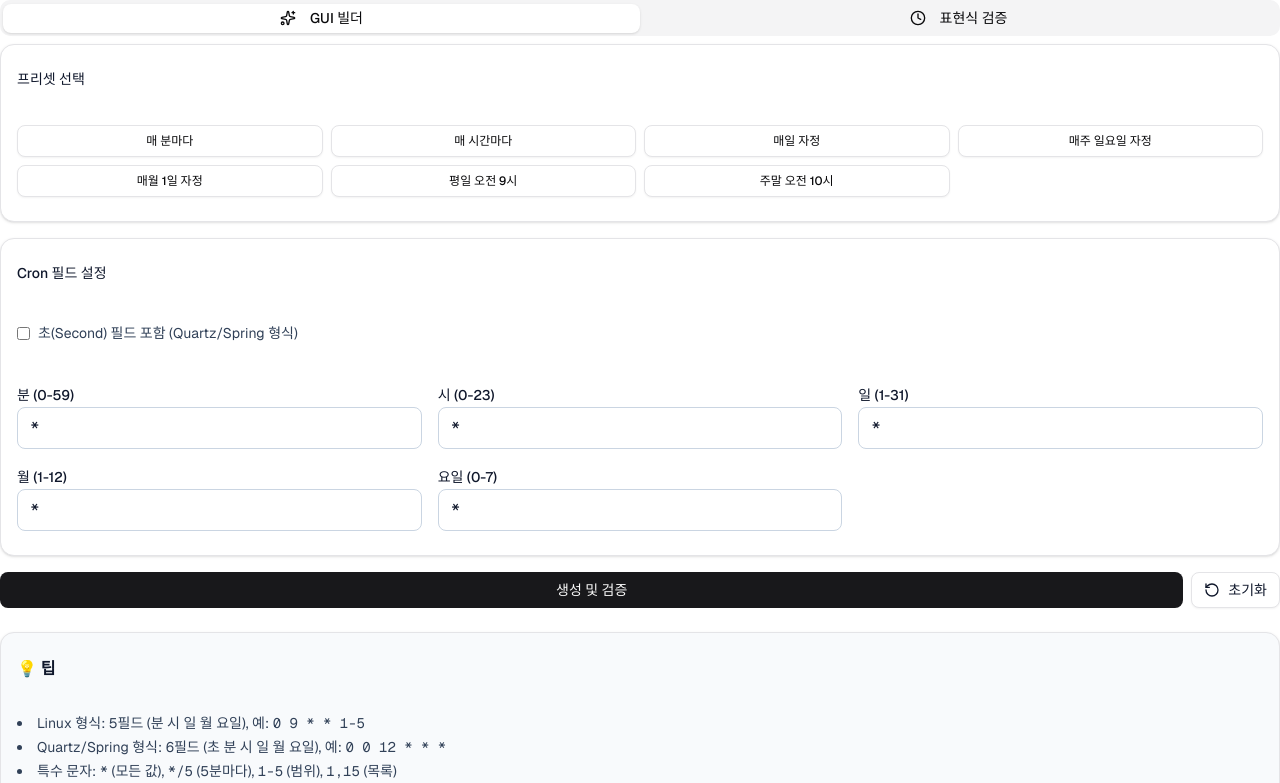
Test: CronExpressionGenerator Component › GUI 빌더 모드 테스트 › Cron 생성 성공 시 결과 표시
Step 1. Click the button "생성 및 검증" → (592, 590), box [0, 572, 1183, 608]
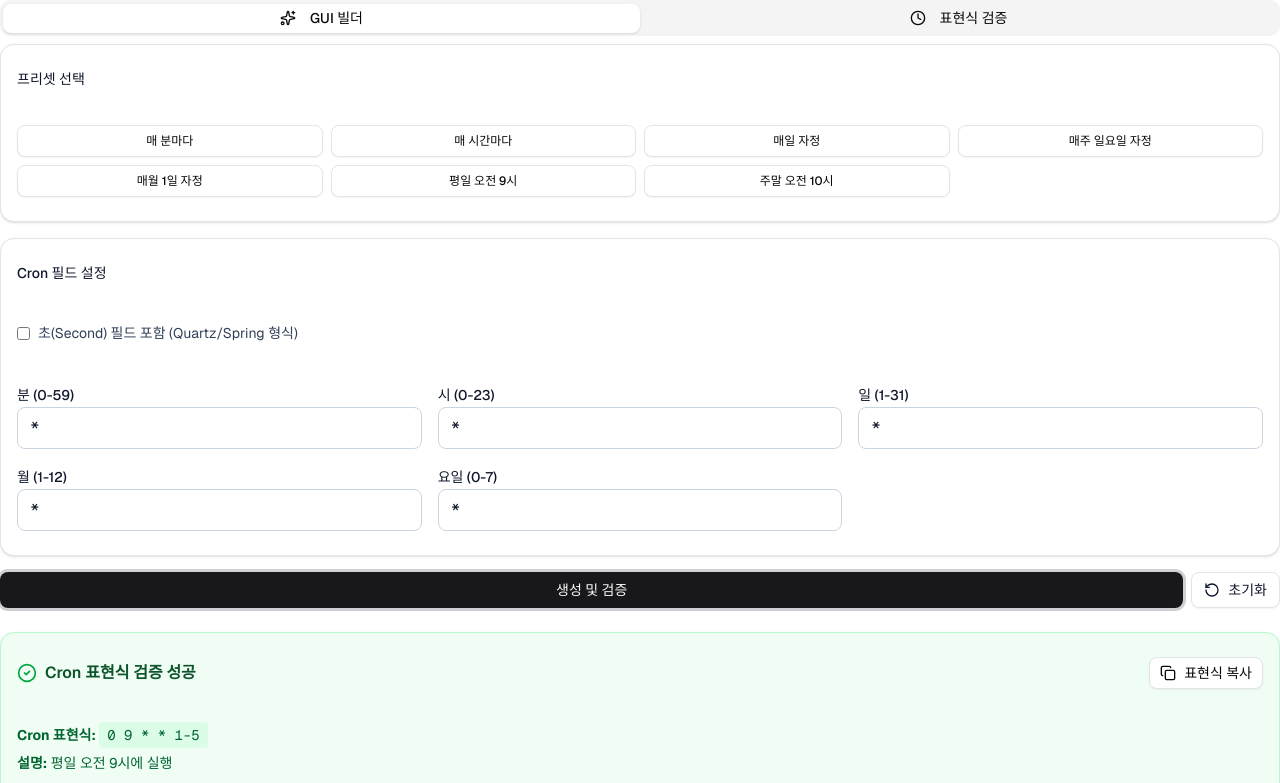
Expected: the heading "Cron 표현식 검증 성공" is shown, [45, 661, 196, 685]
Expected: the text "0 9 * * 1-5" is shown, [99, 722, 208, 748]
Expected: the text "설명: 평일 오전 9시에 실행" is shown, [17, 754, 172, 772]
